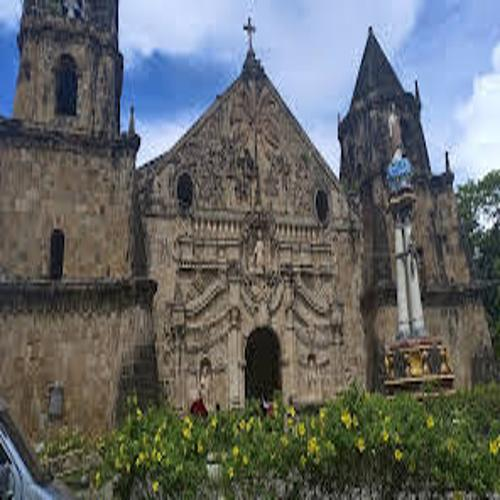Miagao Church: (2, 3, 500, 413)
